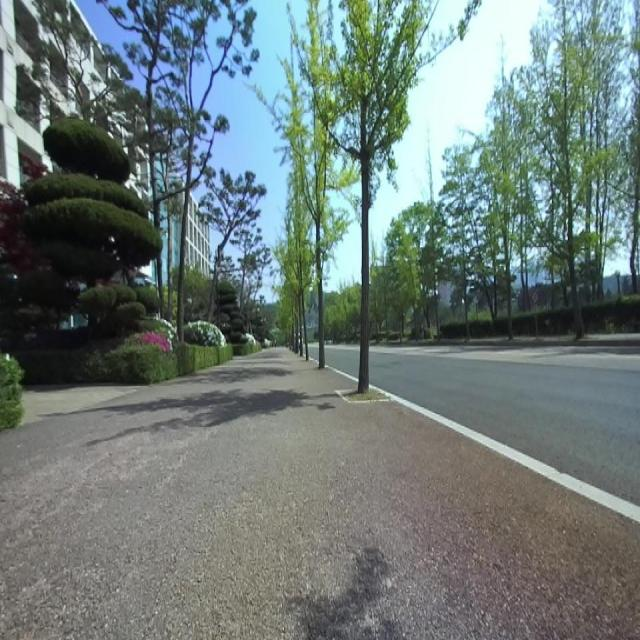sidewalk: (0, 348, 640, 638)
